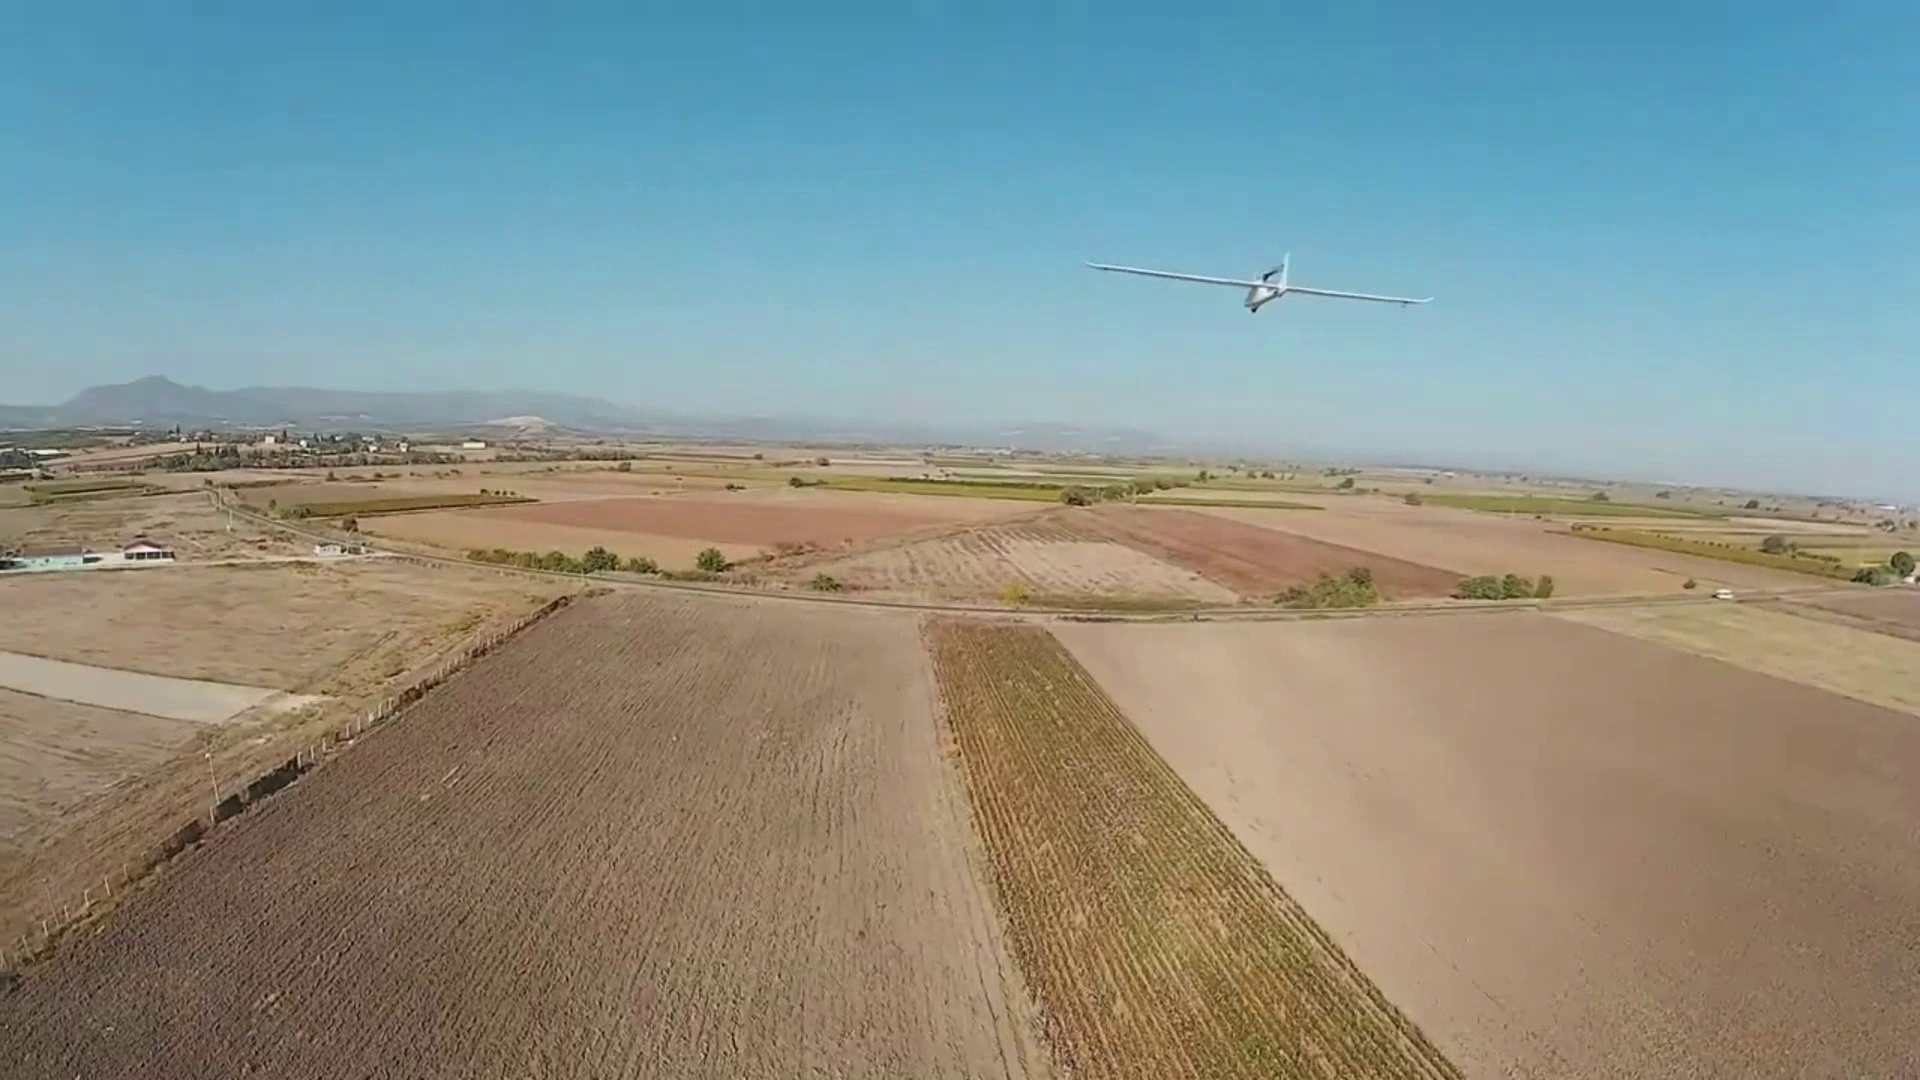airplane: (1086, 253, 1433, 314)
